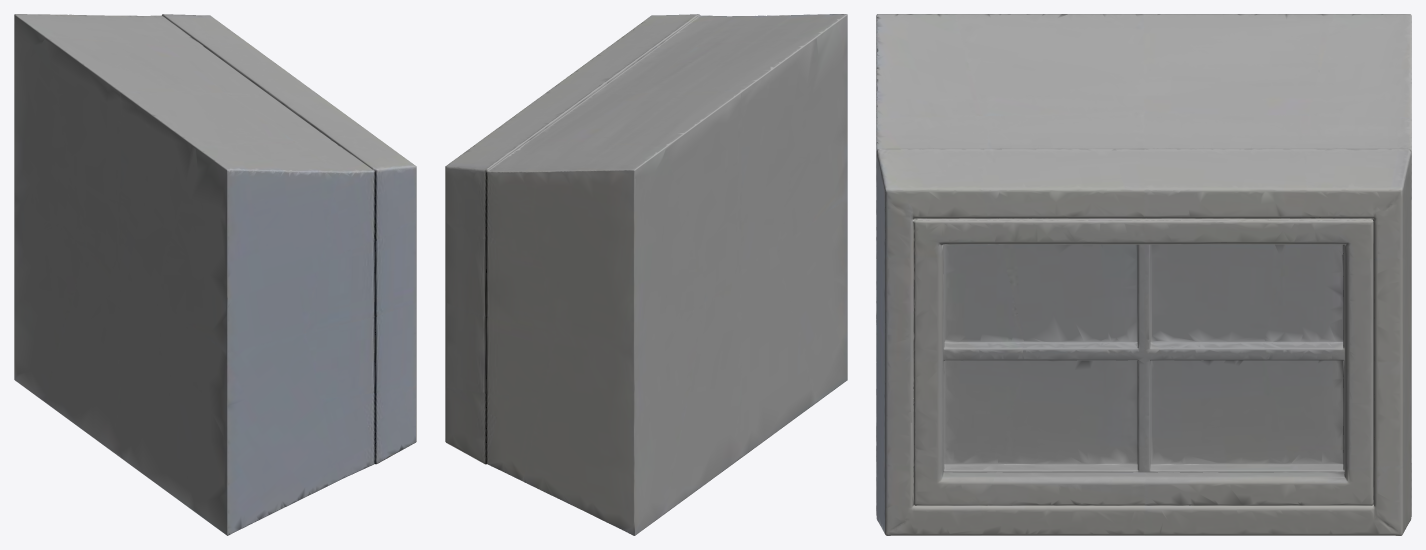
The model's file is 单扇窗户.glb.
3 views of the same model, side by side, from view 1: azimuth 30°, elevation 25°; view 2: azimuth 150°, elevation 25°; view 3: azimuth 270°, elevation 25° (orthographic). The views are drawn at different scales.
Parts seen in each view (by area): view 1: tripo_node_fb3a1403-d7c4-43f4-94af-6d29fde237c2; view 2: tripo_node_fb3a1403-d7c4-43f4-94af-6d29fde237c2; view 3: tripo_node_fb3a1403-d7c4-43f4-94af-6d29fde237c2.
Part boxes in pixels (box(x1,y1,x2,y2)): tripo_node_fb3a1403-d7c4-43f4-94af-6d29fde237c2: box(14, 14, 416, 535); tripo_node_fb3a1403-d7c4-43f4-94af-6d29fde237c2: box(445, 14, 847, 535); tripo_node_fb3a1403-d7c4-43f4-94af-6d29fde237c2: box(876, 14, 1411, 535).
Bounding box in the file's own units: 0.5274 × 0.9465 × 1.
1 material, 1 textured.
